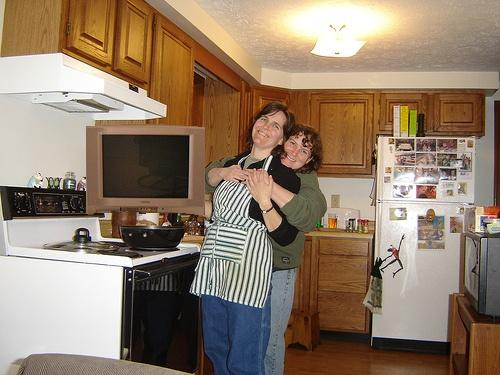tampered: (87, 125, 205, 215)
